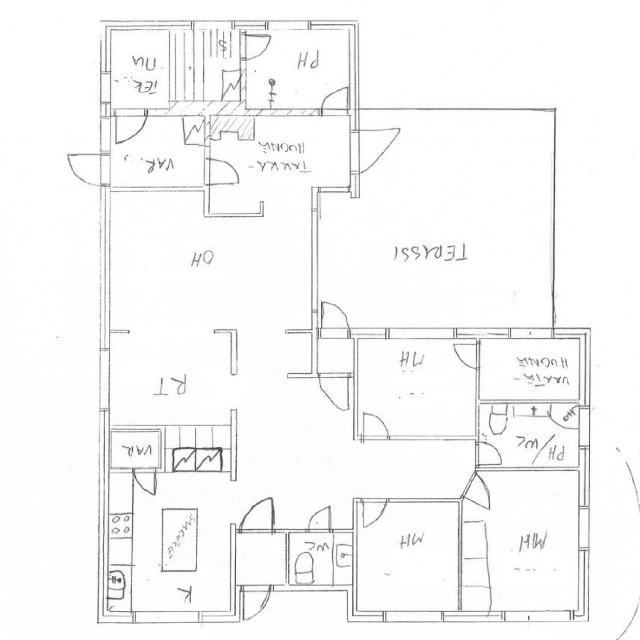door: (108, 114, 205, 190), (239, 495, 277, 536), (317, 372, 355, 412), (65, 152, 105, 185), (318, 298, 352, 336), (239, 583, 272, 622), (114, 110, 148, 145), (318, 84, 351, 119), (206, 156, 241, 188), (360, 409, 391, 442), (464, 472, 490, 511), (474, 438, 505, 468), (359, 498, 388, 529), (452, 340, 481, 370), (306, 505, 333, 535), (243, 32, 271, 59), (133, 468, 158, 496)
window: (387, 326, 452, 343), (380, 609, 446, 625), (500, 609, 572, 623), (267, 18, 312, 33)
zone: (342, 108, 553, 327), (468, 470, 585, 611), (355, 336, 478, 440), (108, 331, 232, 429), (356, 500, 462, 614), (243, 27, 353, 114), (107, 114, 206, 190), (477, 336, 587, 403), (252, 116, 352, 186), (478, 404, 582, 471), (106, 28, 184, 112), (173, 23, 241, 106), (288, 531, 346, 588), (162, 506, 198, 571), (109, 429, 163, 471), (206, 182, 263, 218), (206, 157, 244, 193), (460, 586, 491, 616), (106, 565, 130, 601), (109, 513, 133, 538)
